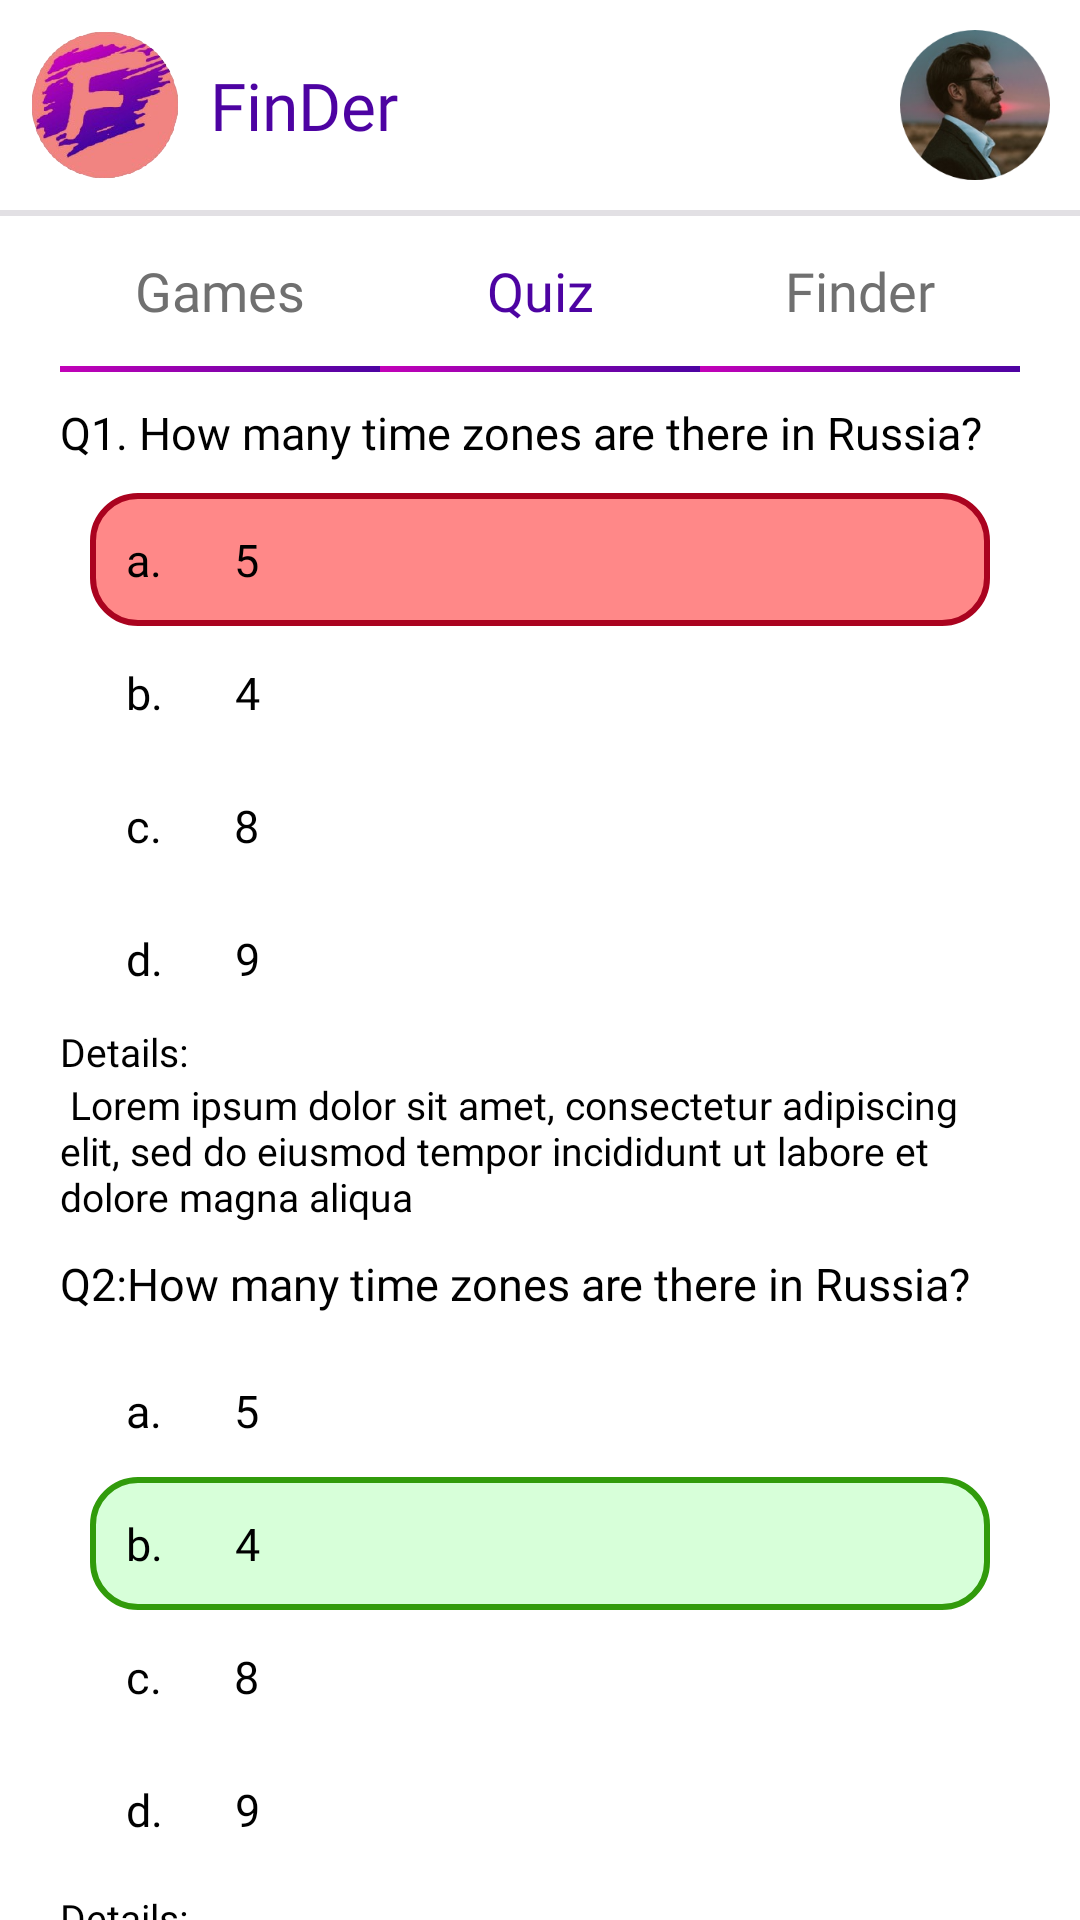

Icons on this 1080x1920 Android screen, each with its box as (x1, y1, x2, y2):
profile pic: (900, 30, 1050, 180)
